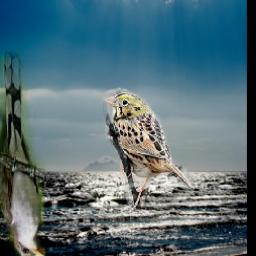Cuckoo: (0, 50, 46, 256)
Sparrow: (104, 90, 196, 210)
